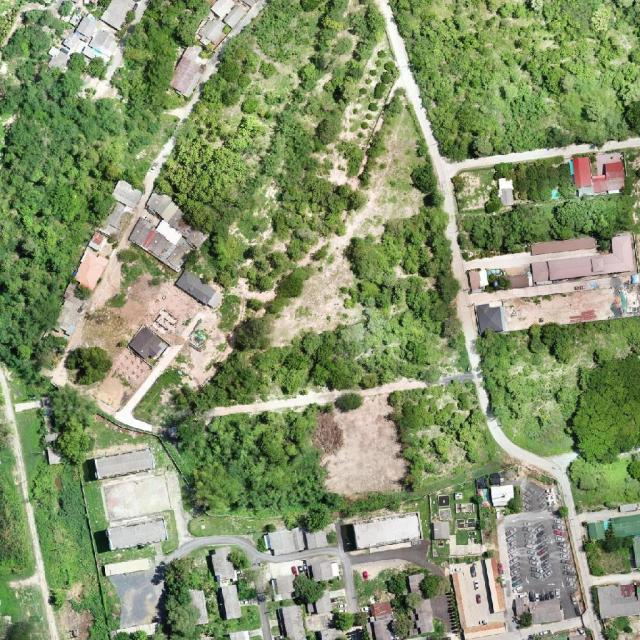building: (68, 178, 145, 292), (99, 470, 176, 551), (528, 233, 637, 284), (450, 558, 511, 640), (137, 192, 199, 272), (190, 0, 257, 55), (352, 511, 423, 550), (167, 42, 213, 100), (127, 217, 179, 264), (174, 269, 225, 312), (61, 24, 119, 61), (93, 449, 156, 480), (165, 209, 208, 251), (127, 325, 169, 367), (597, 582, 640, 619), (263, 527, 307, 557), (546, 255, 594, 282), (530, 236, 597, 255), (591, 161, 627, 194), (528, 596, 566, 626), (475, 301, 506, 335), (210, 546, 238, 583), (103, 557, 151, 577), (74, 11, 101, 41), (307, 558, 340, 582), (221, 585, 243, 620), (189, 588, 209, 625), (449, 536, 486, 556), (270, 575, 296, 602), (414, 599, 434, 634), (572, 156, 593, 188), (13, 397, 50, 414), (304, 612, 333, 632), (311, 592, 334, 616), (405, 570, 426, 595), (468, 270, 489, 293), (490, 486, 514, 506), (498, 178, 514, 207), (48, 48, 69, 70), (306, 529, 328, 549), (586, 521, 607, 541), (68, 5, 86, 28), (531, 261, 549, 284), (369, 601, 393, 618), (431, 521, 452, 540), (508, 273, 530, 290), (46, 445, 62, 466), (514, 598, 530, 616), (478, 268, 489, 287), (47, 46, 60, 59), (44, 432, 59, 443)
dryland: (46, 249, 243, 446), (319, 394, 408, 496)
greenland: (152, 203, 468, 416), (154, 0, 386, 253), (476, 317, 640, 501), (175, 404, 330, 522), (381, 371, 500, 493), (183, 221, 318, 317), (24, 455, 103, 607), (460, 194, 635, 260), (63, 568, 133, 640), (494, 156, 576, 207), (49, 385, 98, 466), (159, 557, 202, 640), (355, 560, 429, 605), (61, 335, 118, 393), (0, 461, 30, 571), (0, 571, 46, 639), (351, 127, 393, 189), (322, 492, 403, 518), (284, 572, 328, 613), (371, 59, 403, 104), (300, 499, 335, 538), (415, 567, 452, 603), (375, 92, 410, 125), (219, 293, 242, 333), (390, 612, 415, 640)
metalled_road: (272, 0, 574, 286), (482, 390, 619, 543), (502, 513, 581, 614), (463, 247, 598, 272), (165, 533, 267, 564), (350, 538, 429, 567), (464, 337, 492, 415), (338, 551, 359, 613), (266, 547, 340, 563), (516, 448, 559, 475), (576, 507, 632, 525), (521, 479, 549, 511), (458, 307, 479, 348), (430, 593, 451, 633), (557, 470, 575, 506), (498, 520, 505, 562)
unmetalled_road: (112, 331, 183, 435), (207, 388, 343, 422), (136, 132, 179, 201), (165, 86, 210, 128), (359, 375, 426, 400), (200, 57, 220, 79), (442, 374, 474, 384), (186, 47, 200, 52)
